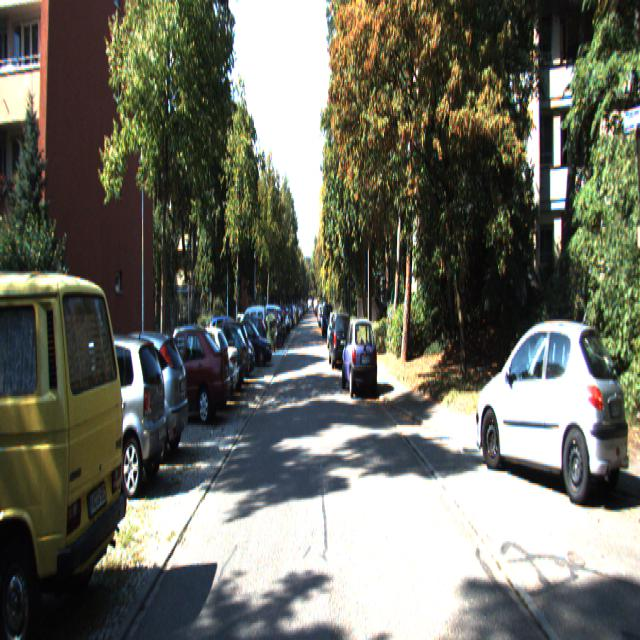Car: (0, 261, 129, 639), (475, 317, 630, 516), (32, 326, 168, 500), (74, 323, 190, 465), (142, 325, 232, 426), (173, 325, 240, 405), (341, 318, 378, 402), (228, 316, 273, 369), (235, 304, 266, 358), (328, 313, 352, 371)
